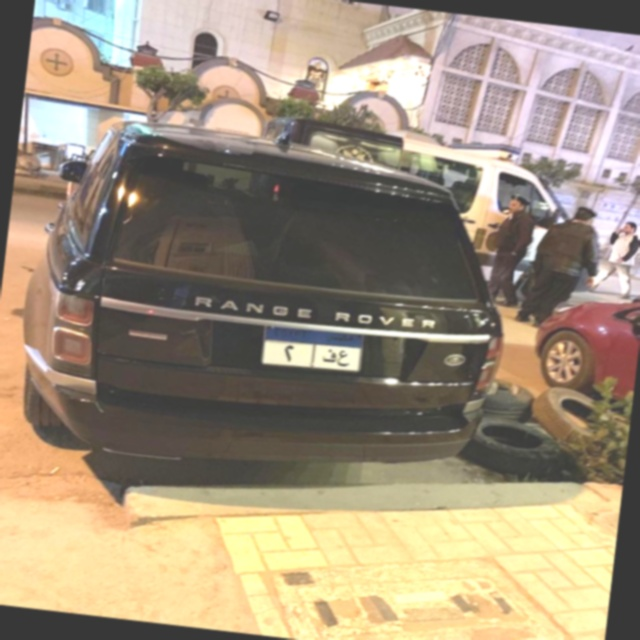License Plate: (259, 323, 367, 377)
